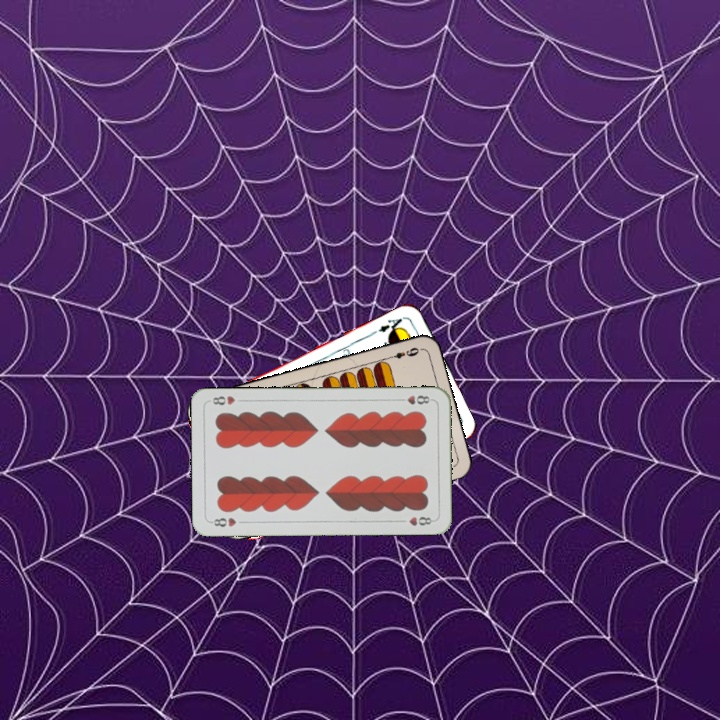E9: (383, 343, 422, 362)
EA: (374, 313, 408, 337)
H8: (394, 392, 435, 407), (207, 513, 239, 529)
